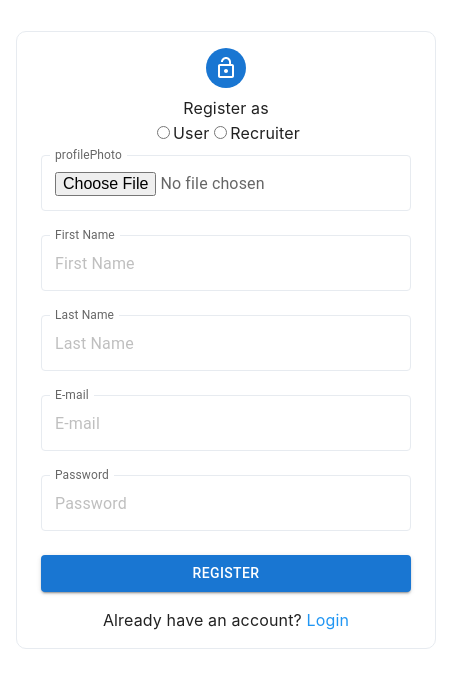
Test case: auth form submission › requires a photo before registration and submits after uploading one
Later steps or results of the test are not shown.
Step 1. Click the 2nd radio button named "role" → (221, 133), box [214,126,227,139]
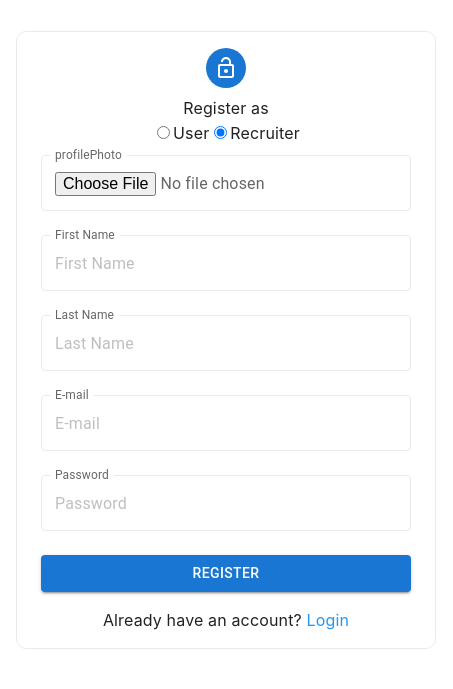
Step 2. Type "Alex" into the field labelled "First Name" → (226, 263), box [41,235,411,291]
Step 3. Type "Morgan" into the field labelled "Last Name" → (226, 343), box [41,315,411,371]
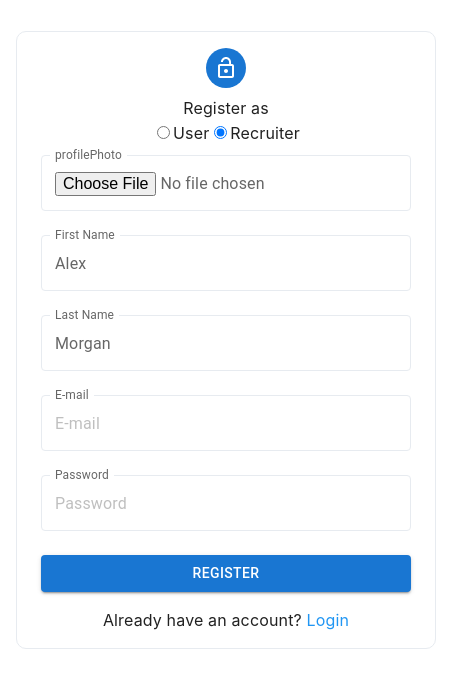
Step 4. Type "1alex@example.com" into the field labelled "E-mail" → (226, 423), box [41,395,411,451]
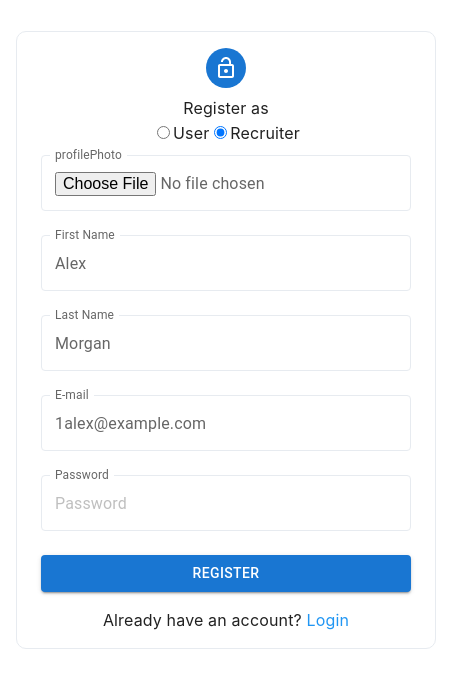
Step 5. Type "StrongPass1!" into the password field labelled "Password" → (226, 503), box [41,475,411,531]
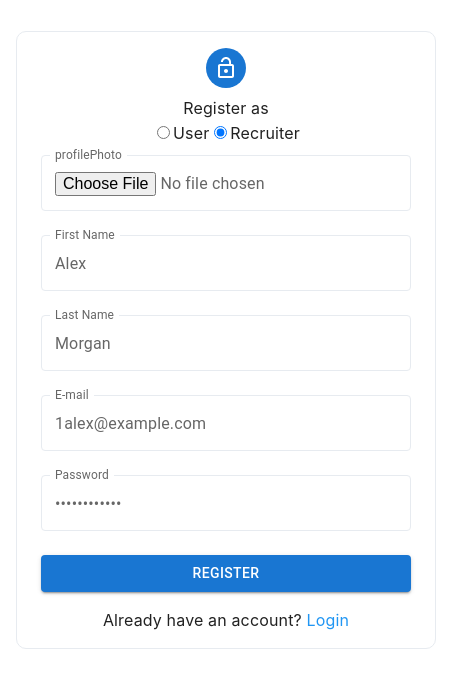
Step 6. Submit the form
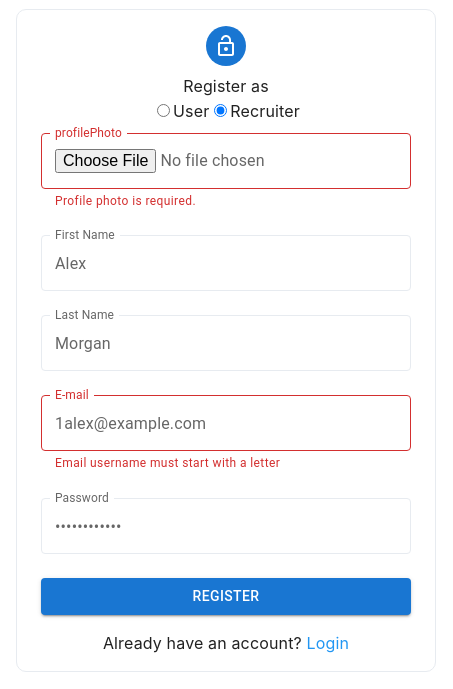
Expected: the text "Email username must start with a letter" is shown, [55,456,280,470]
Step 7. Replace the text in the field labelled "E-mail" with "alex@example.com" → (226, 423), box [41,395,411,451]
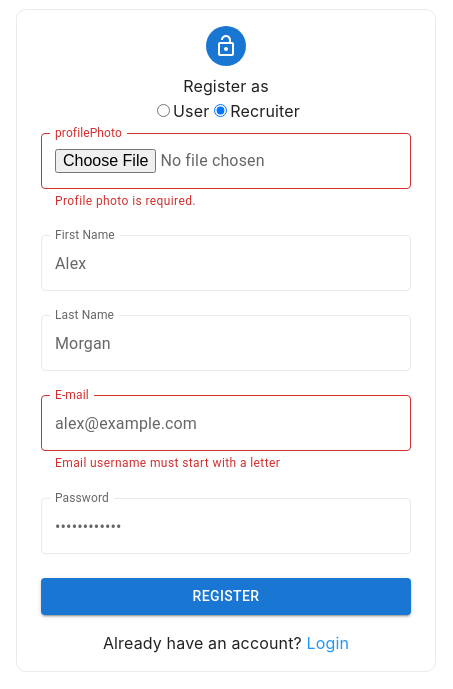
Step 8. Submit the form
Expected: the text "Profile photo is required." is shown, [55,194,196,208]
